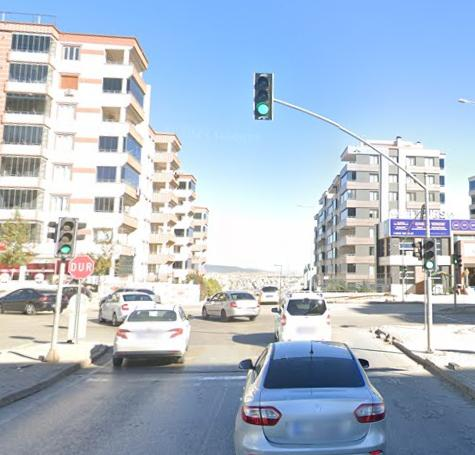greenlight: (254, 71, 273, 119), (58, 216, 75, 255), (424, 236, 436, 272)
stop: (69, 255, 94, 279)
